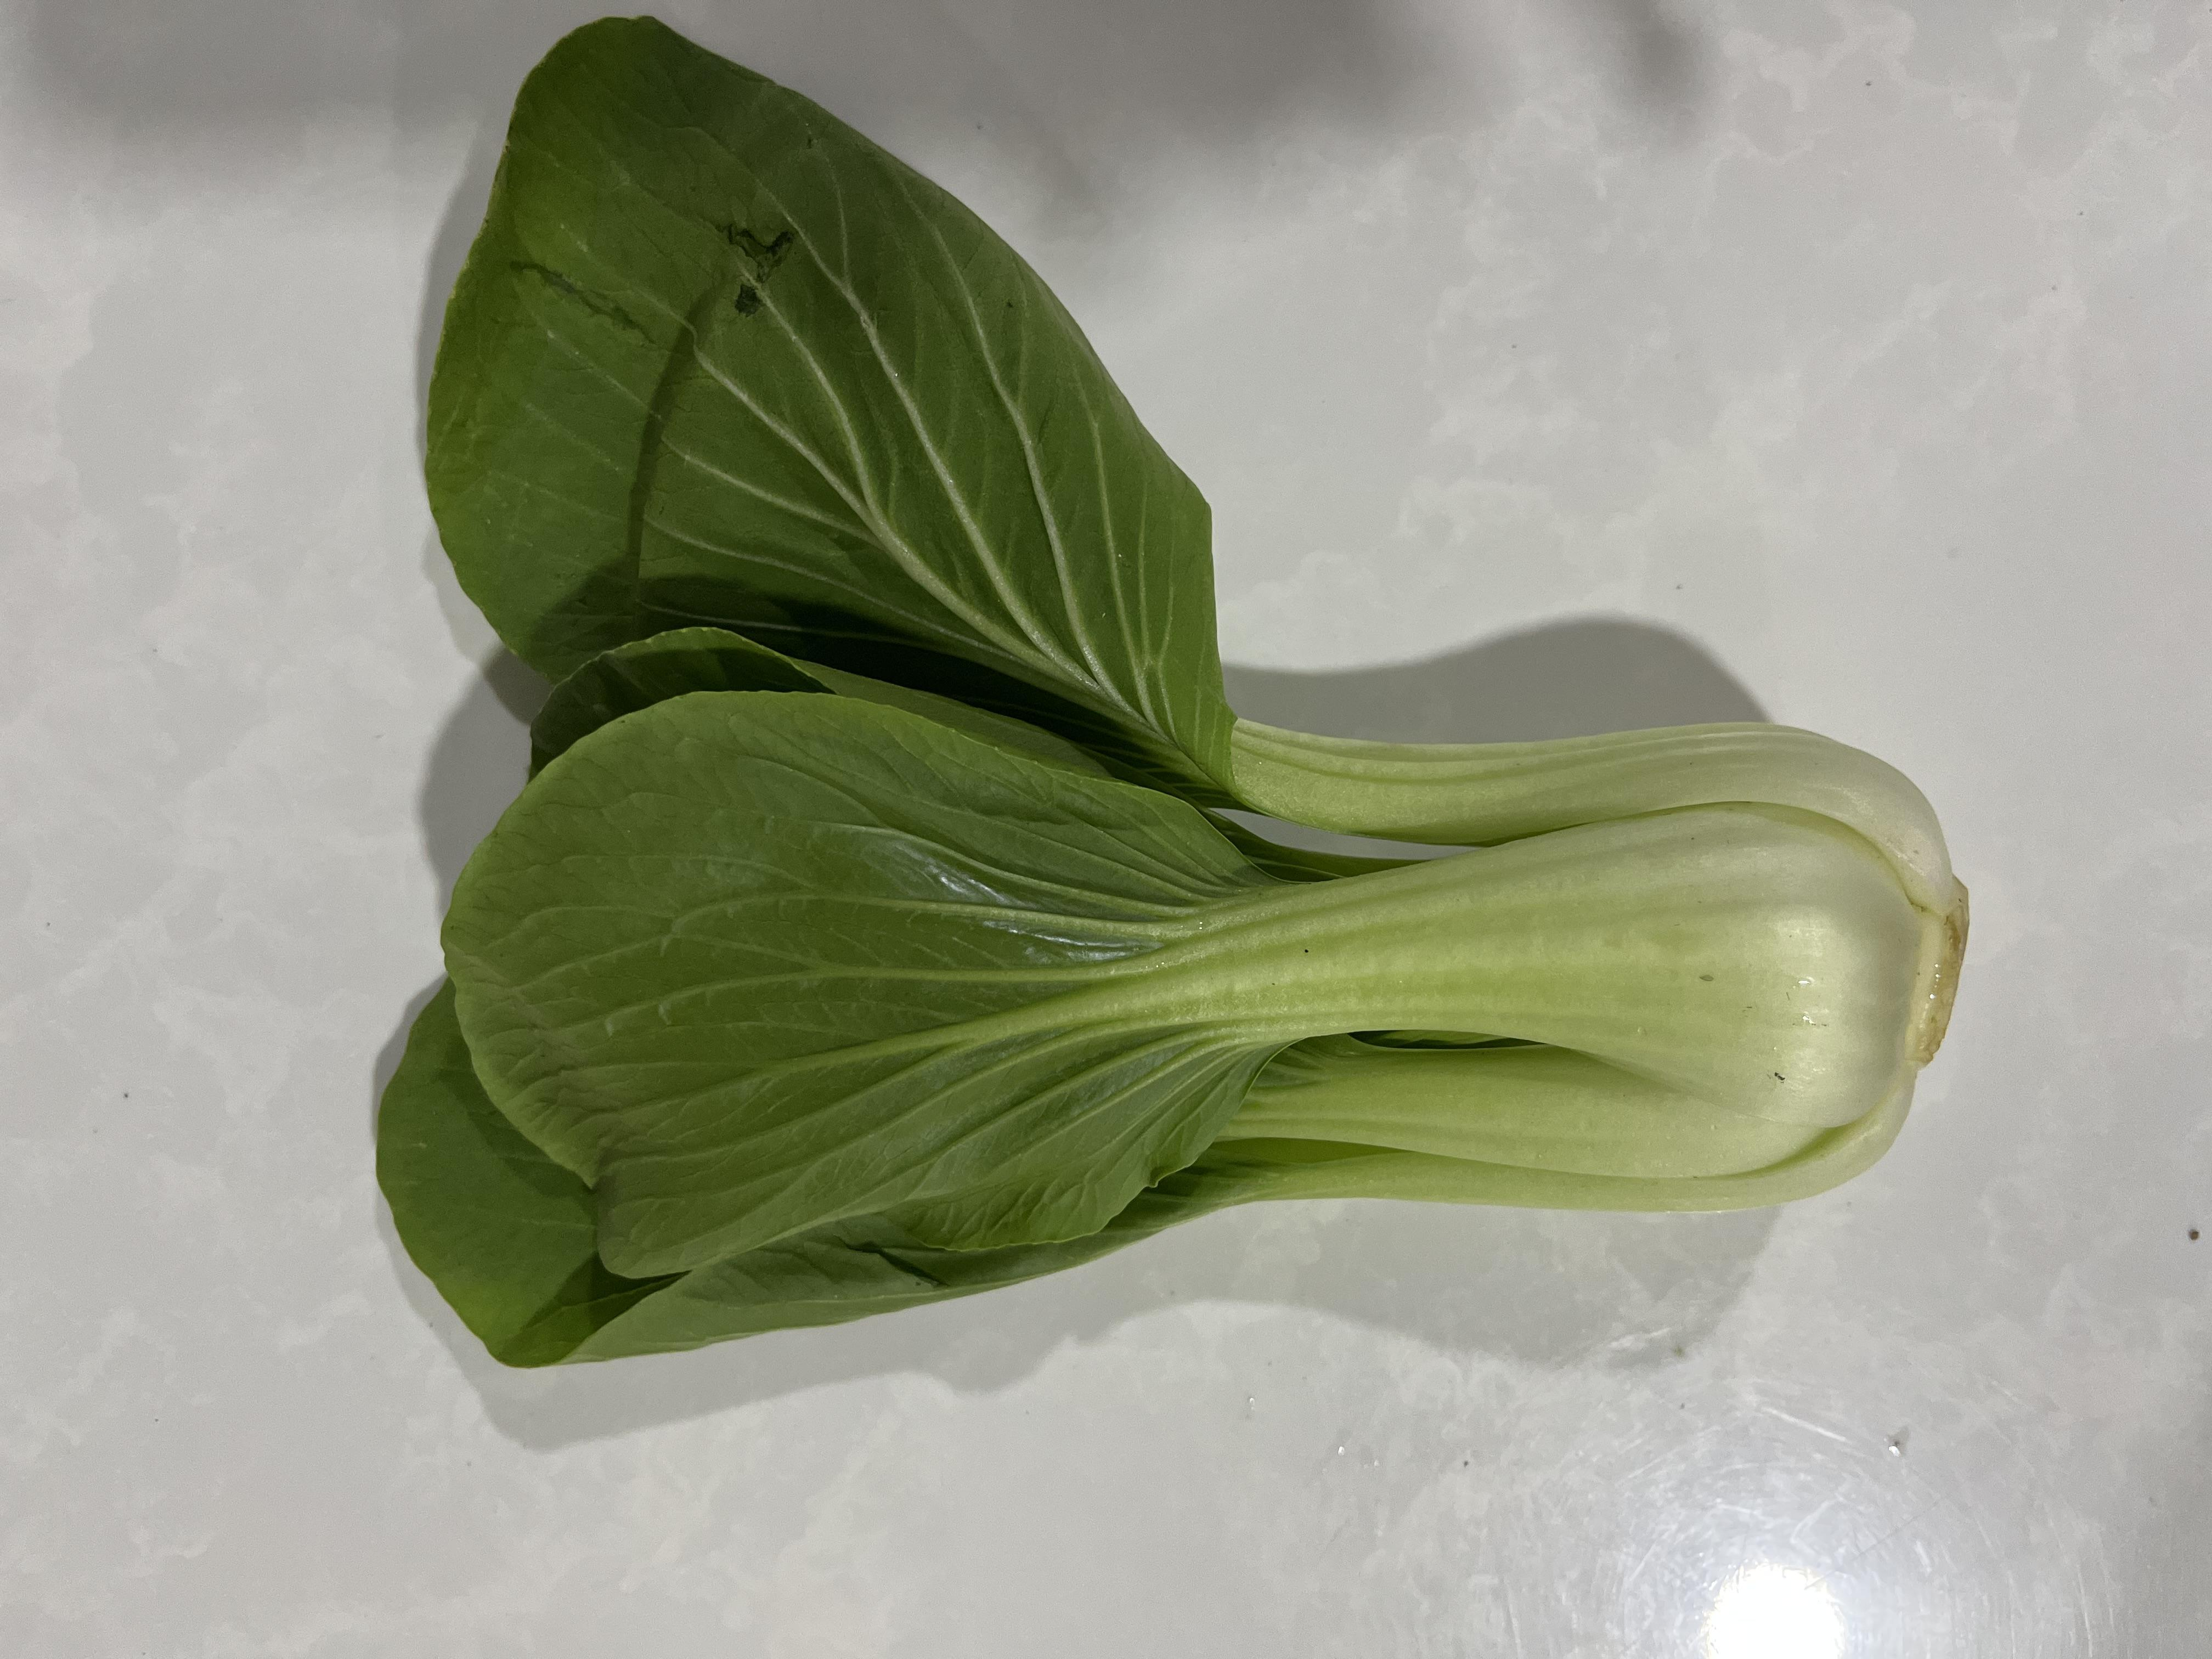Healthy-Pechay: (247, 125, 2029, 1438)
